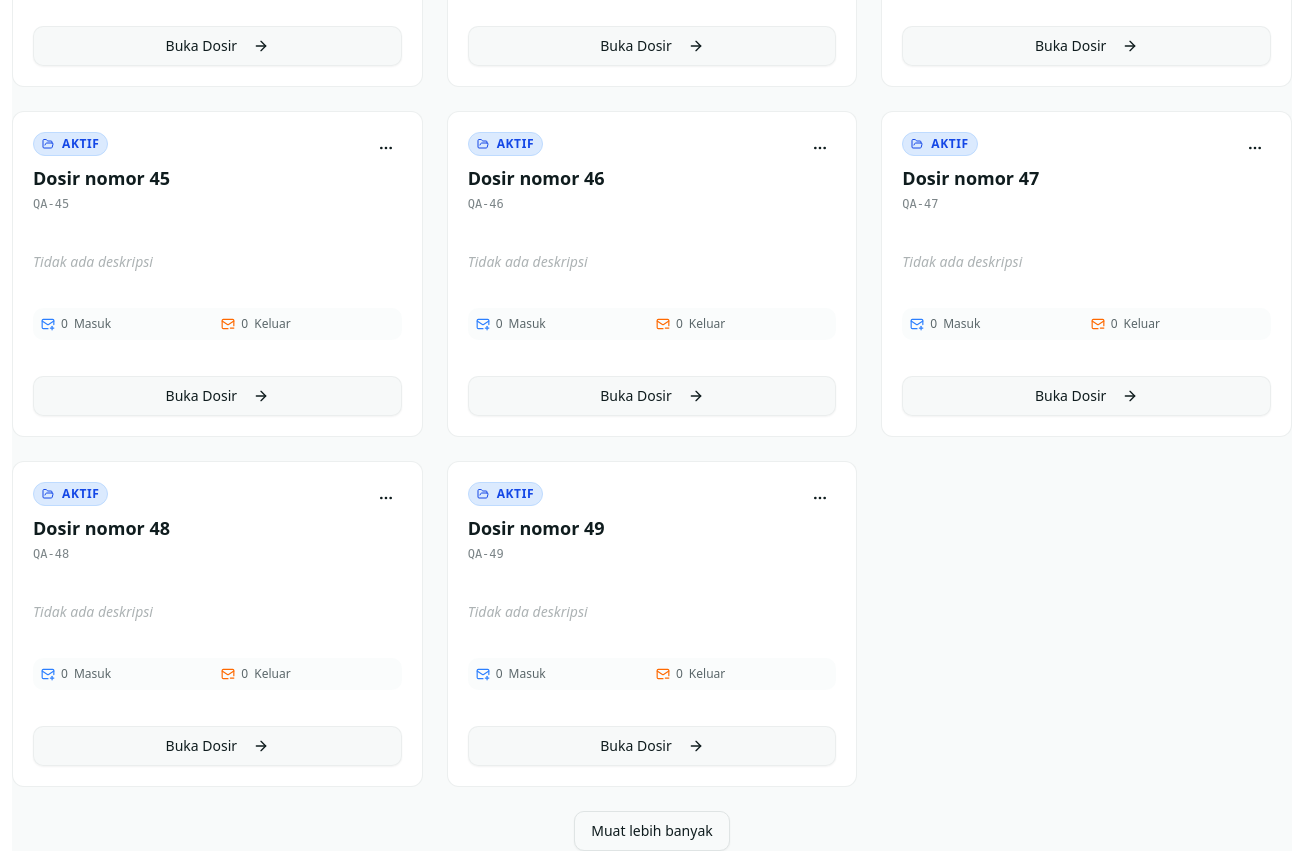
Test: Dosir requests follow the current unit and filters › offers the next page because the list endpoint returns no total
(page scrolled)
Expected: the text "Dosir nomor 49" is shown, [468,516,605,540]
Click the button "Muat lebih banyak".
click(652, 831)  # box [574,811,730,850]
(page scrolled)
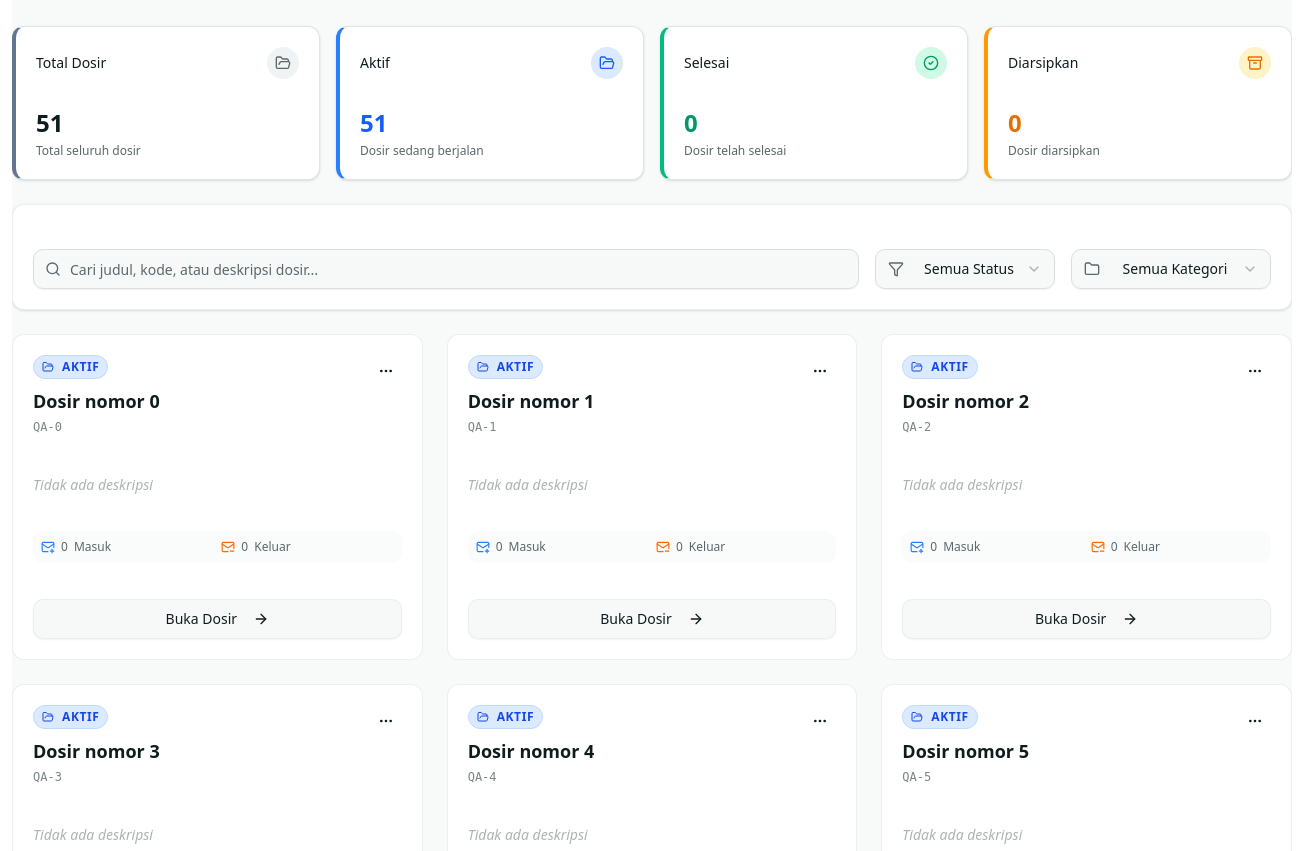
Expected: the text "Dosir nomor 0" is shown, [33,389,160,413]
Expected: the button "Muat lebih banyak" is gone
